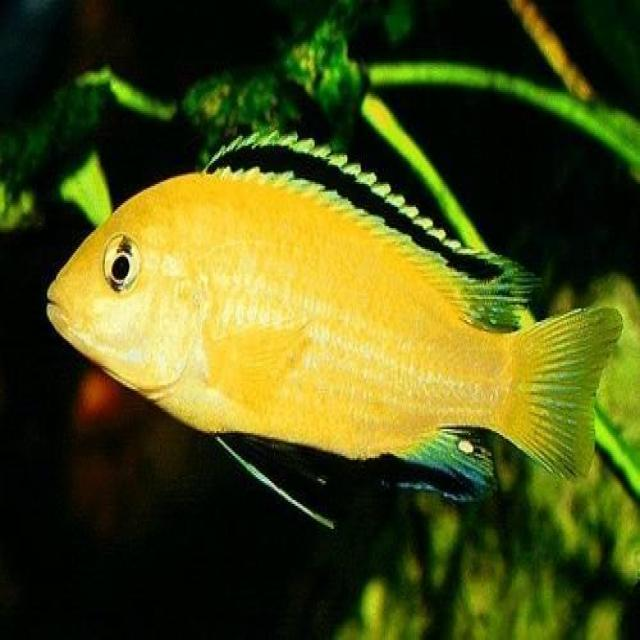YellowCichlid: (35, 118, 636, 516)
